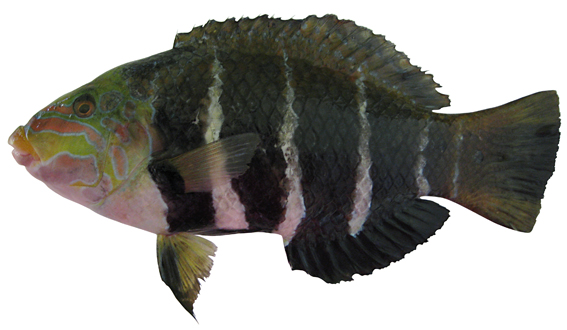fish: (7, 13, 562, 324)
